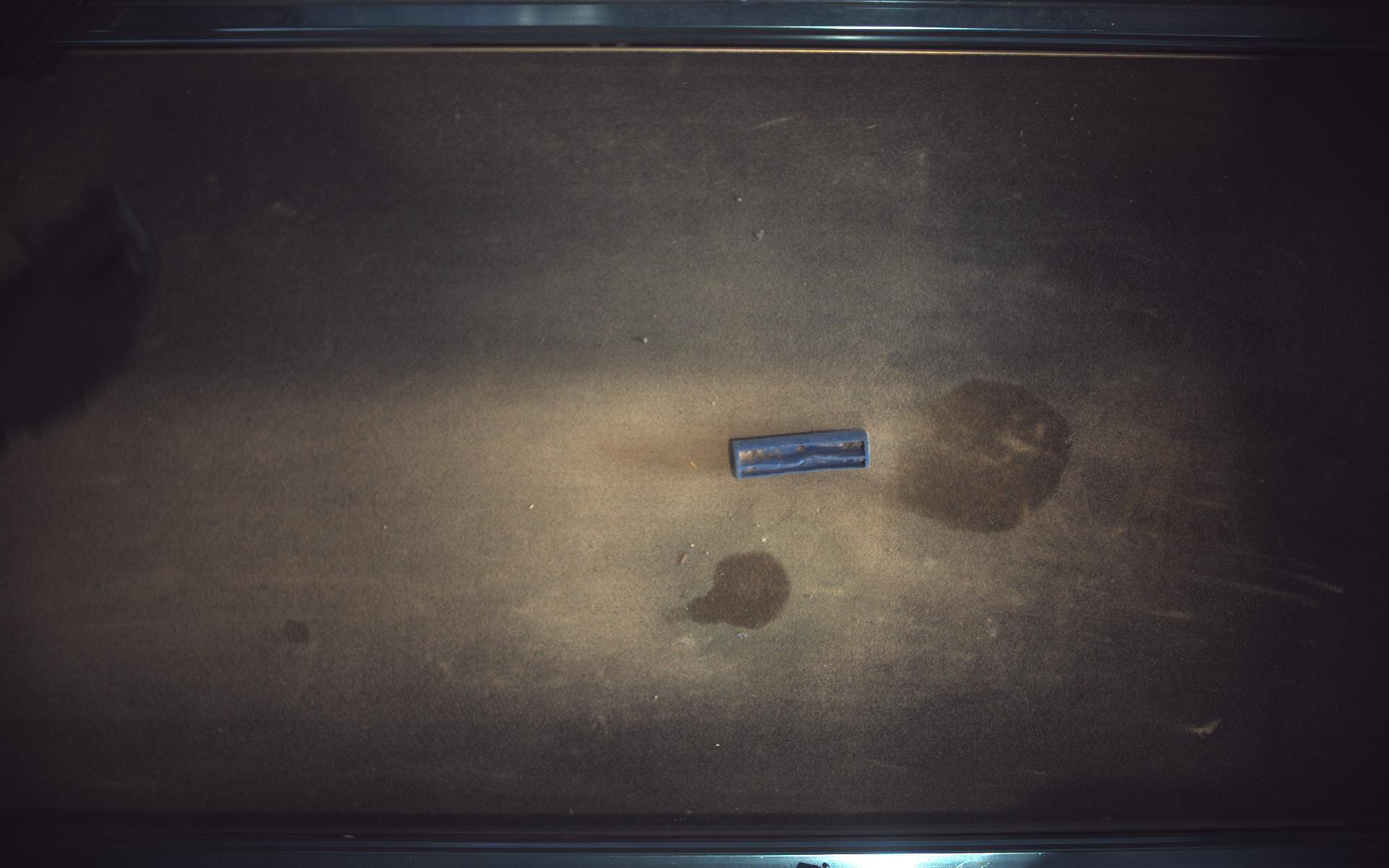plastic: (731, 429, 872, 480)
